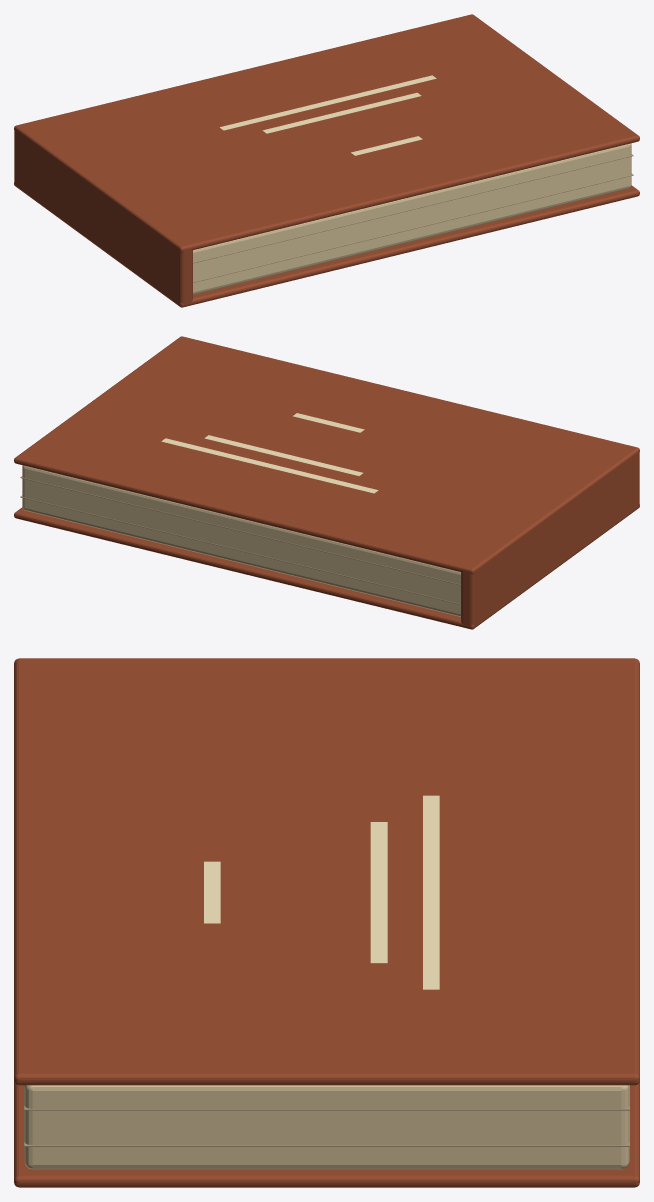
Rendered from pocketbook.glb.
3 renders of one model, top to bottom at view 1: azimuth 30°, elevation 25°; view 2: azimuth 150°, elevation 25°; view 3: azimuth 270°, elevation 25°, orthographic. The views are drawn at different scales.
Visible parts, largest first — view 1: pocketbook; view 2: pocketbook; view 3: pocketbook.
Boxes of the visible parts, <box> form: pocketbook: <box>14,14,639,307</box>; pocketbook: <box>14,336,639,629</box>; pocketbook: <box>14,658,639,1187</box>.
Bounding box in the file's own units: 0.095 × 0.012 × 0.06.
